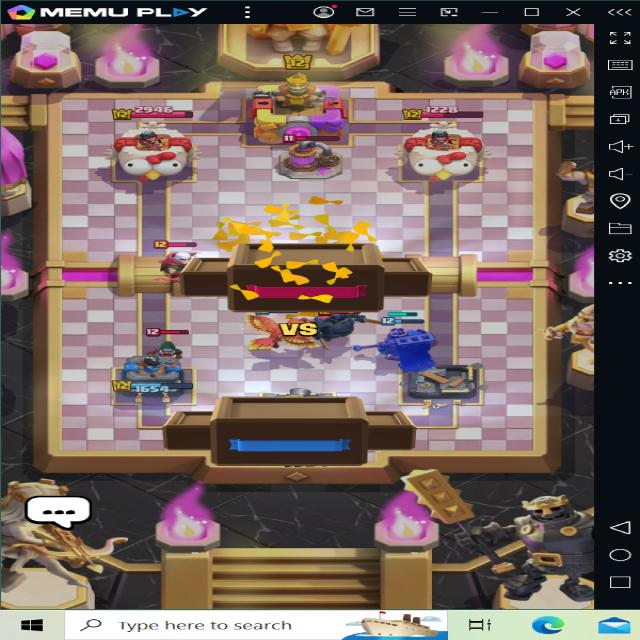Bandit: (130, 323, 198, 360)
Marcher: (144, 229, 208, 287)
Pekka: (299, 310, 367, 343)
Pump: (274, 127, 342, 185)
